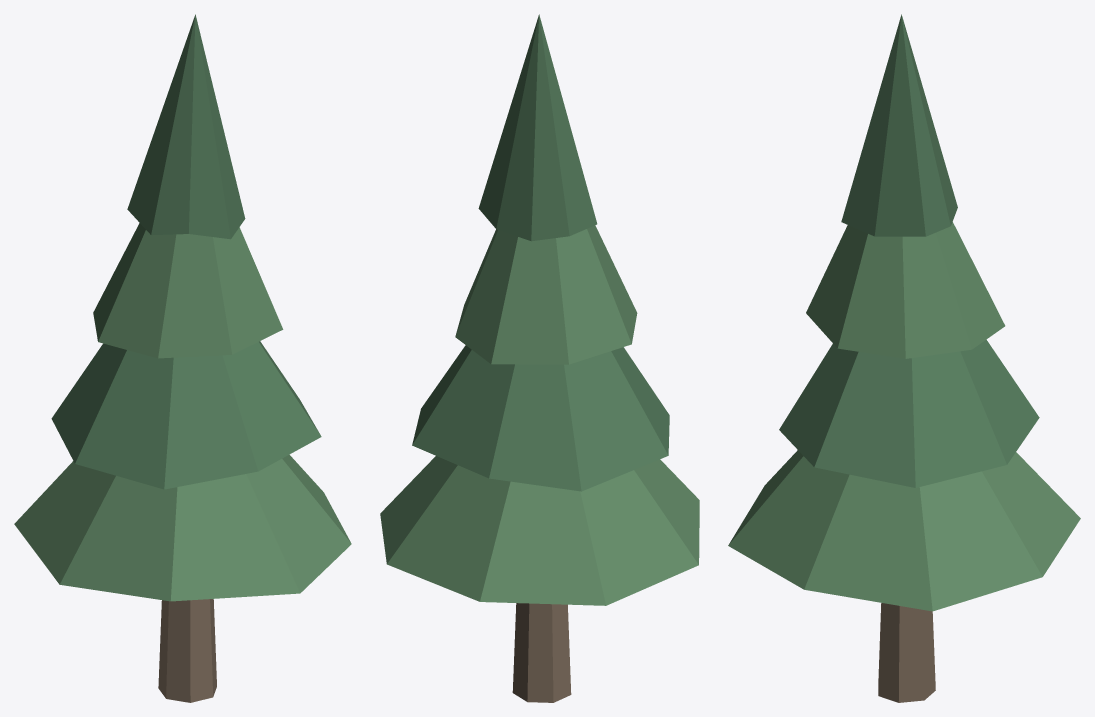
The model's file is PineTall.glb.
The picture shows the model from 3 angles, left to right: view 1: azimuth 30°, elevation 25°; view 2: azimuth 150°, elevation 25°; view 3: azimuth 270°, elevation 25°; orthographic projection.
Parts seen in each view (by area): view 1: PineTall; view 2: PineTall; view 3: PineTall.
Boxes of the visible parts, left/top/right/bottom form: PineTall: left=14, top=14, right=351, bottom=702; PineTall: left=380, top=14, right=699, bottom=702; PineTall: left=728, top=14, right=1080, bottom=702.
Bounding box in the file's own units: 7.82 × 17.31 × 8.15.
